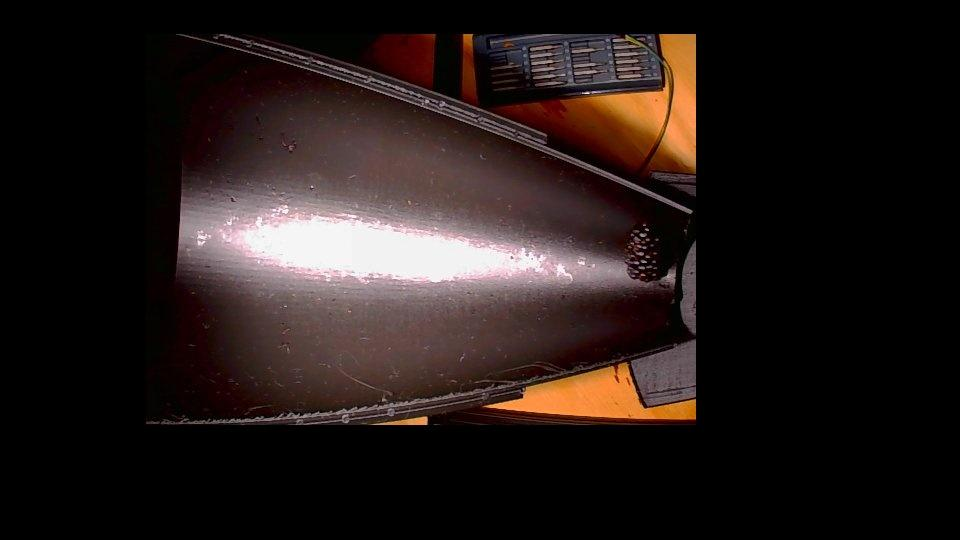berry: (628, 223, 666, 281)
